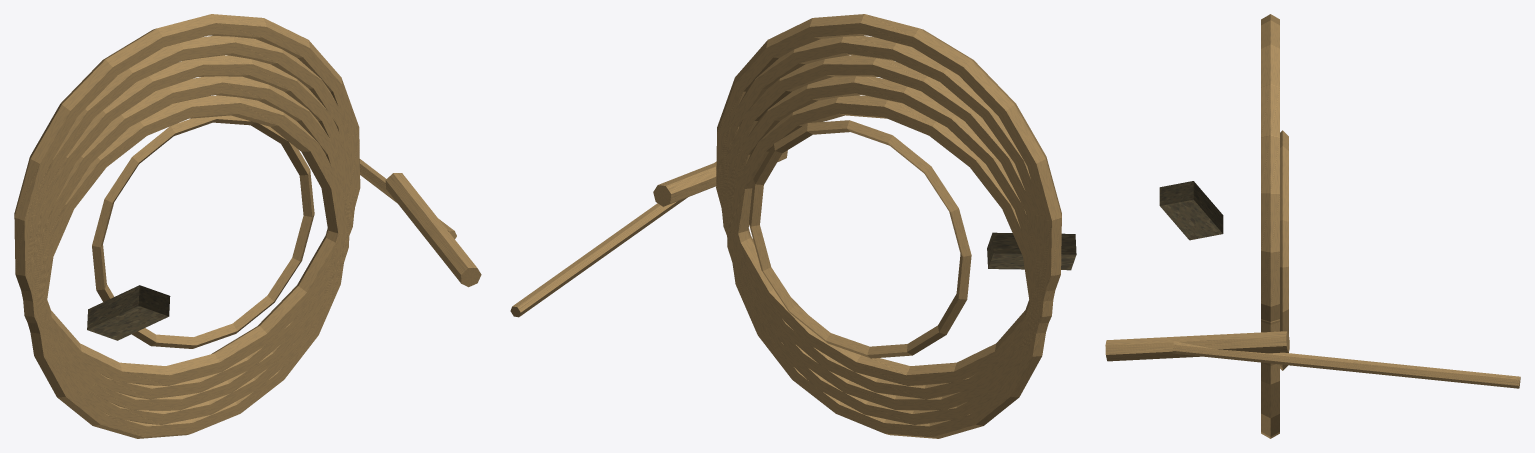
File: pr-002_rope_coil__loose.obj
3 views of the same model, side by side, from view 1: azimuth 30°, elevation 25°; view 2: azimuth 150°, elevation 25°; view 3: azimuth 270°, elevation 25° (orthographic). The views are drawn at different scales.
Parts seen in each view (by area): view 1: pr-002_rope_coil__loose; view 2: pr-002_rope_coil__loose; view 3: pr-002_rope_coil__loose.
Boxes of the visible parts, left/top/right/bottom form: pr-002_rope_coil__loose: left=14, top=14, right=481, bottom=438; pr-002_rope_coil__loose: left=510, top=14, right=1076, bottom=438; pr-002_rope_coil__loose: left=1105, top=14, right=1520, bottom=438.
Bounding box in the file's own units: 0.7495 × 0.709 × 0.6826.
2 materials, 2 textured.
